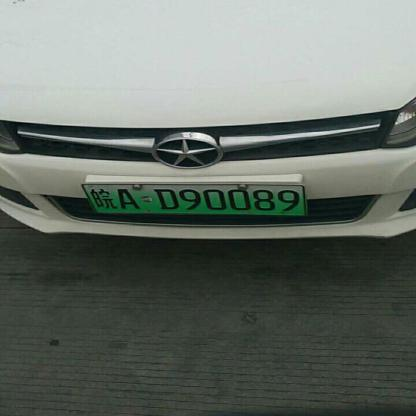lp: (83, 184, 305, 214)
